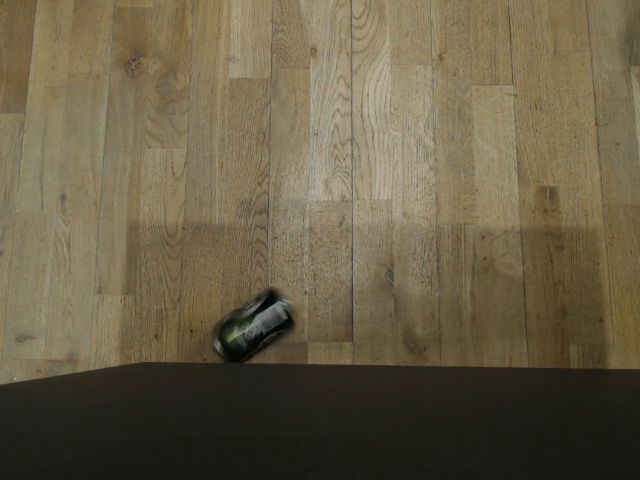beer: (205, 281, 302, 367)
